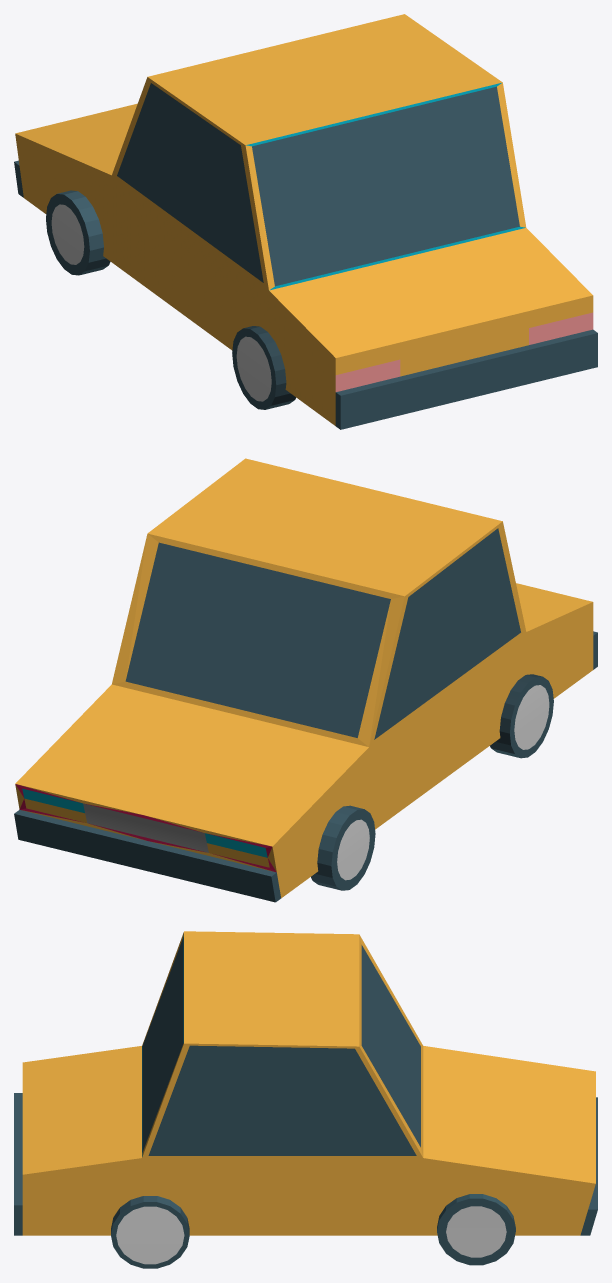
The model's file is Car1Yellow1x1.fbx.
The picture shows the model from 3 angles, top to bottom: view 1: azimuth 30°, elevation 25°; view 2: azimuth 150°, elevation 25°; view 3: azimuth 270°, elevation 25°; orthographic projection. The views are drawn at different scales.
Parts seen in each view (by area): view 1: Car_04_4; view 2: Car_04_4; view 3: Car_04_4.
Part boxes in pixels (bbox=[...]): Car_04_4: bbox=[14, 14, 597, 429]; Car_04_4: bbox=[14, 458, 597, 902]; Car_04_4: bbox=[14, 931, 597, 1268].
Bounding box in the file's own units: 0.4944 × 0.4046 × 0.9785.
1 material, 1 textured.
